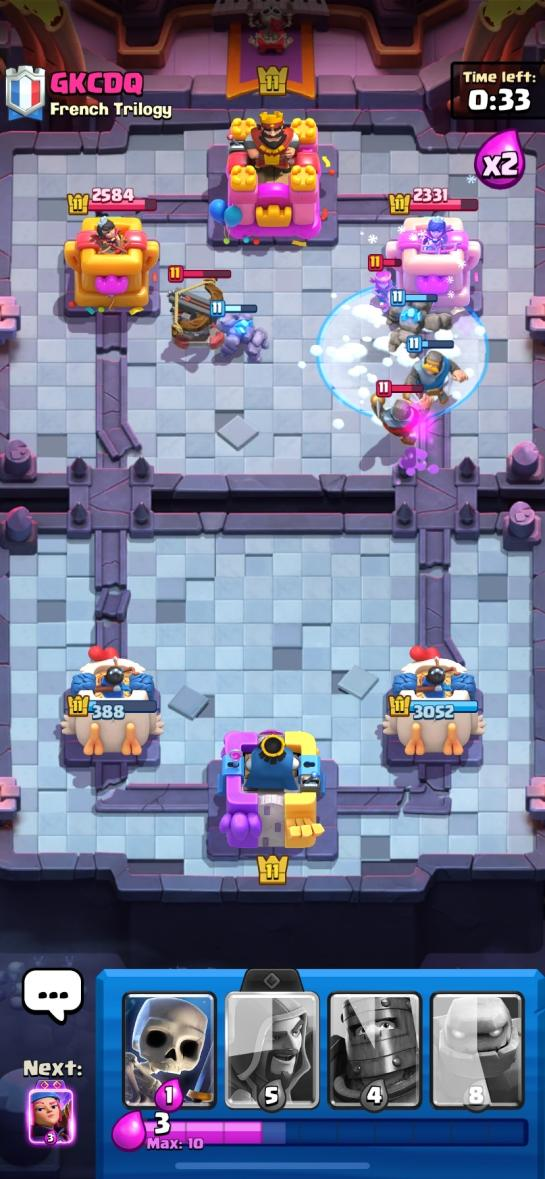EArcher: (368, 254, 392, 312)
EKingTower: (209, 111, 336, 246)
EKnight: (370, 380, 434, 450)
EXbow: (169, 274, 225, 348)
EnemyPrincessTower: (371, 218, 480, 313), (64, 216, 159, 315)
OKnight: (406, 341, 467, 403), (406, 337, 417, 351)
OMiniGolem: (385, 289, 436, 350), (210, 312, 267, 362)
OwnKingTower: (218, 732, 324, 850)
OwnPrincessTower: (383, 647, 484, 762), (62, 646, 162, 758)
